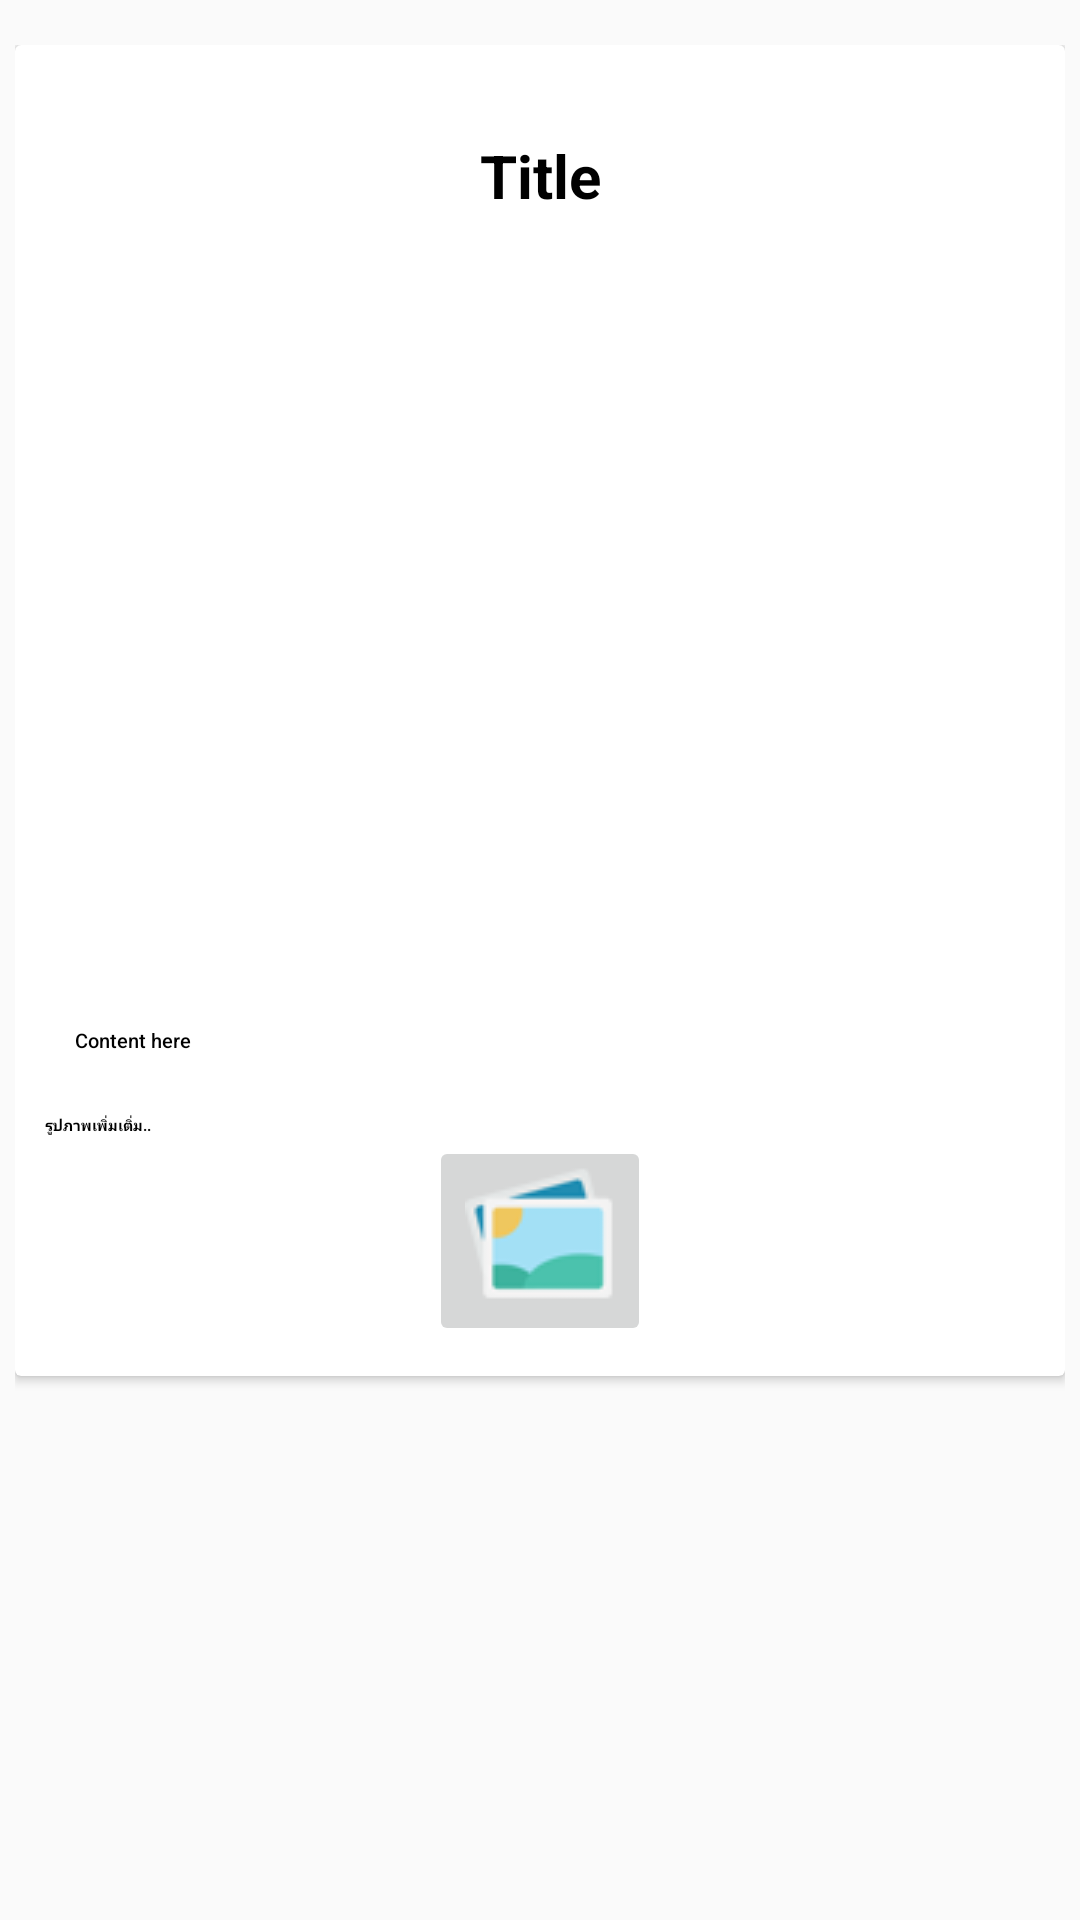

Screen size 1080 × 1920. Icon name, then its center in pixels as [x,y]:
imgicon: [540,1241]
